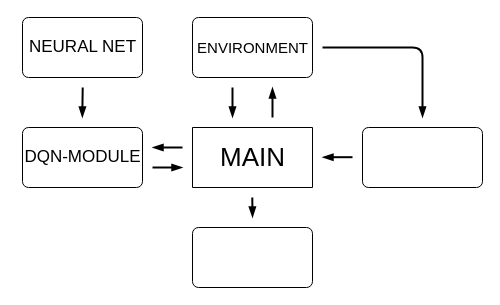
Image size: 500x305. Some labels were removed from this diagram. The centre of each missing label's shape, as x and y in pixels:
"GRAPHICS" goes at [252,257].
"MAPS" goes at [422,157].
